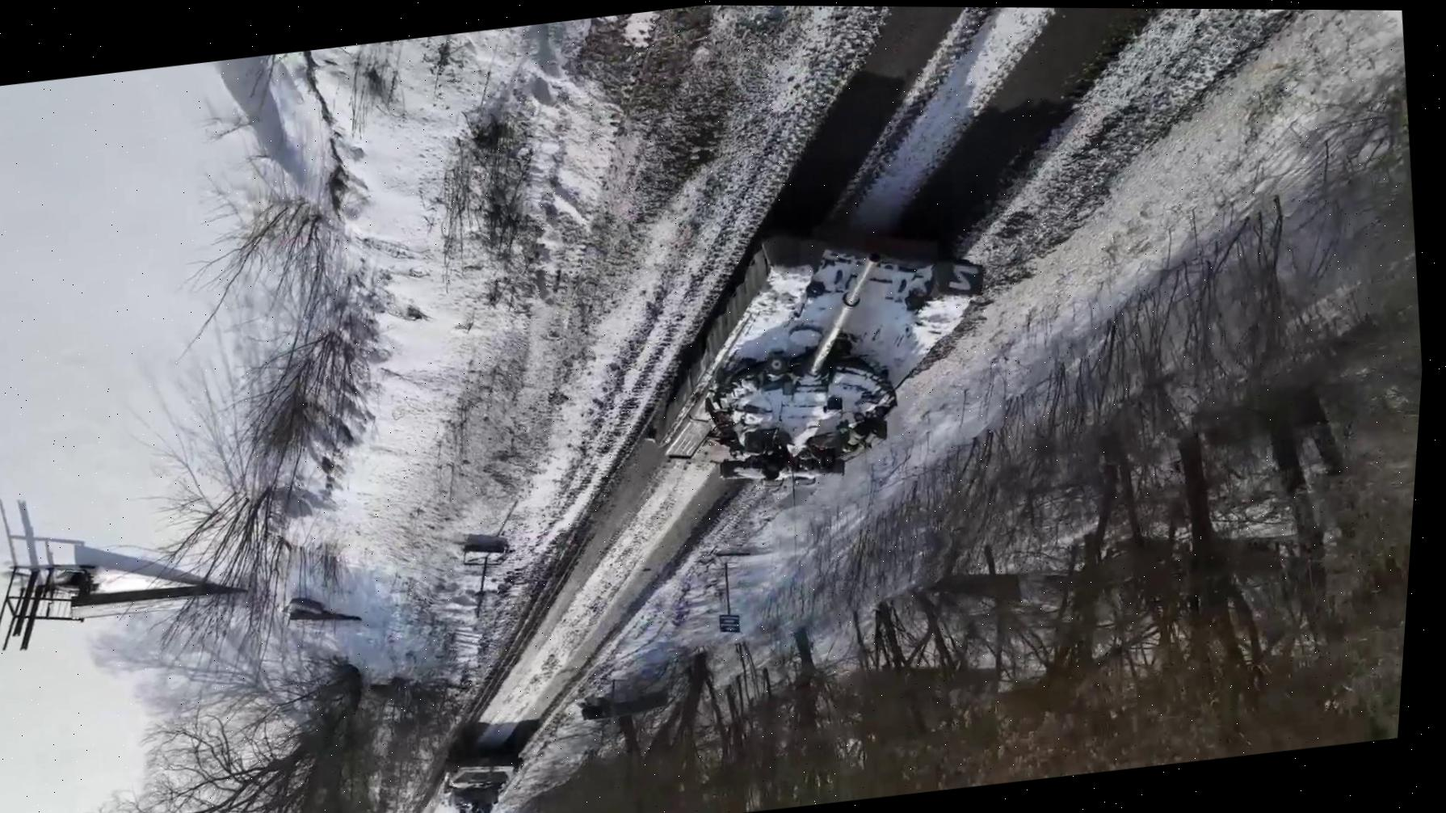tank: (623, 196, 1016, 522), (423, 731, 537, 813)
